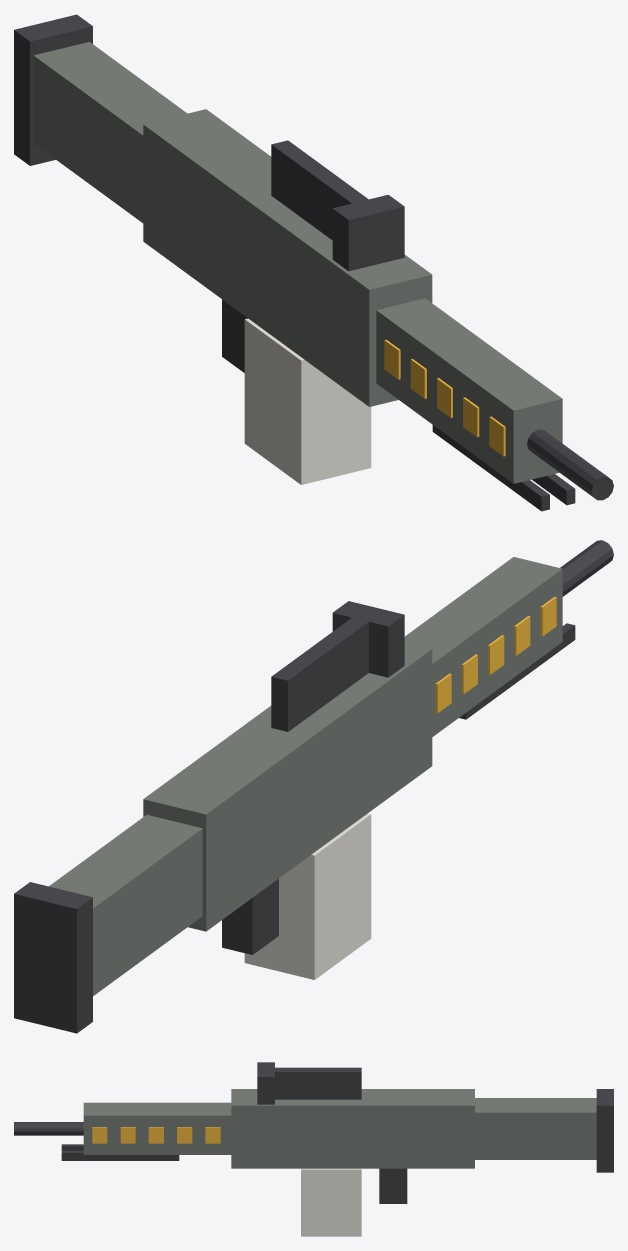
The model's file is weapon_F1_LMG.glb.
3 views of the same model, one above another, from view 1: azimuth 30°, elevation 25°; view 2: azimuth 150°, elevation 25°; view 3: azimuth 270°, elevation 25° (orthographic). The views are drawn at different scales.
Parts seen in each view (by area): view 1: Body, Mag; view 2: Body, Mag; view 3: Body, Mag.
Part boxes in pixels (<box>): Body: <box>14,14,613,511</box>; Mag: <box>244,318,371,484</box>; Body: <box>14,540,613,1033</box>; Mag: <box>244,813,371,979</box>; Body: <box>14,1062,613,1203</box>; Mag: <box>301,1168,361,1236</box>.
Bounding box in the file's own units: 0.1 × 0.4 × 1.38.
